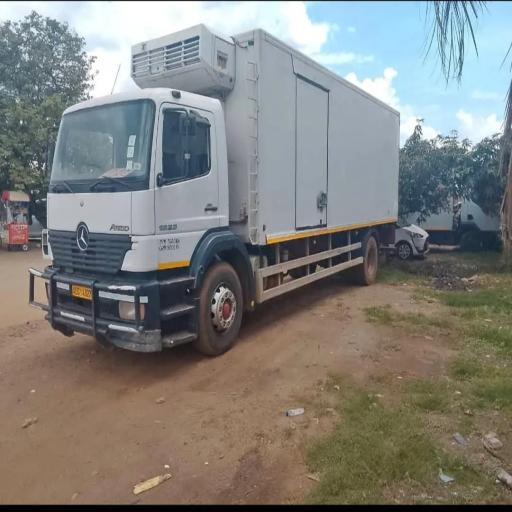number-plates: (72, 284, 91, 300)
